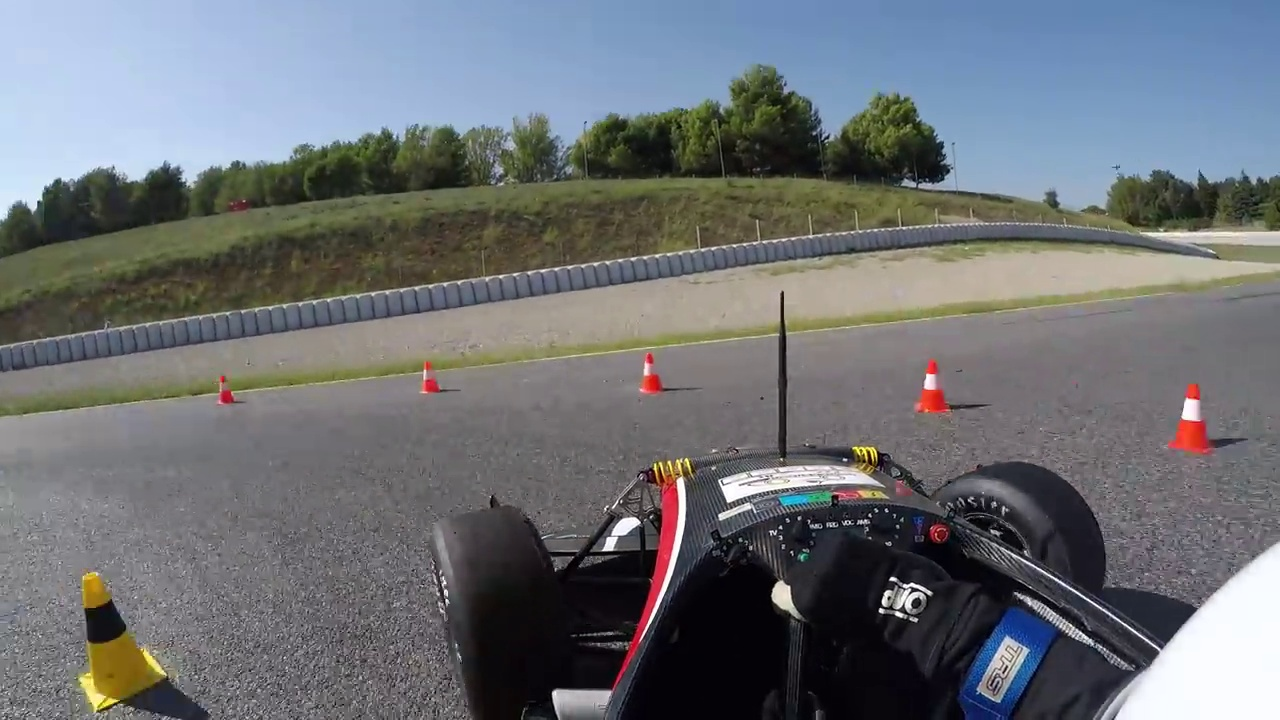Cone: (80, 567, 154, 709), (1163, 382, 1212, 456), (912, 358, 953, 414), (636, 350, 667, 395), (418, 358, 440, 393)
